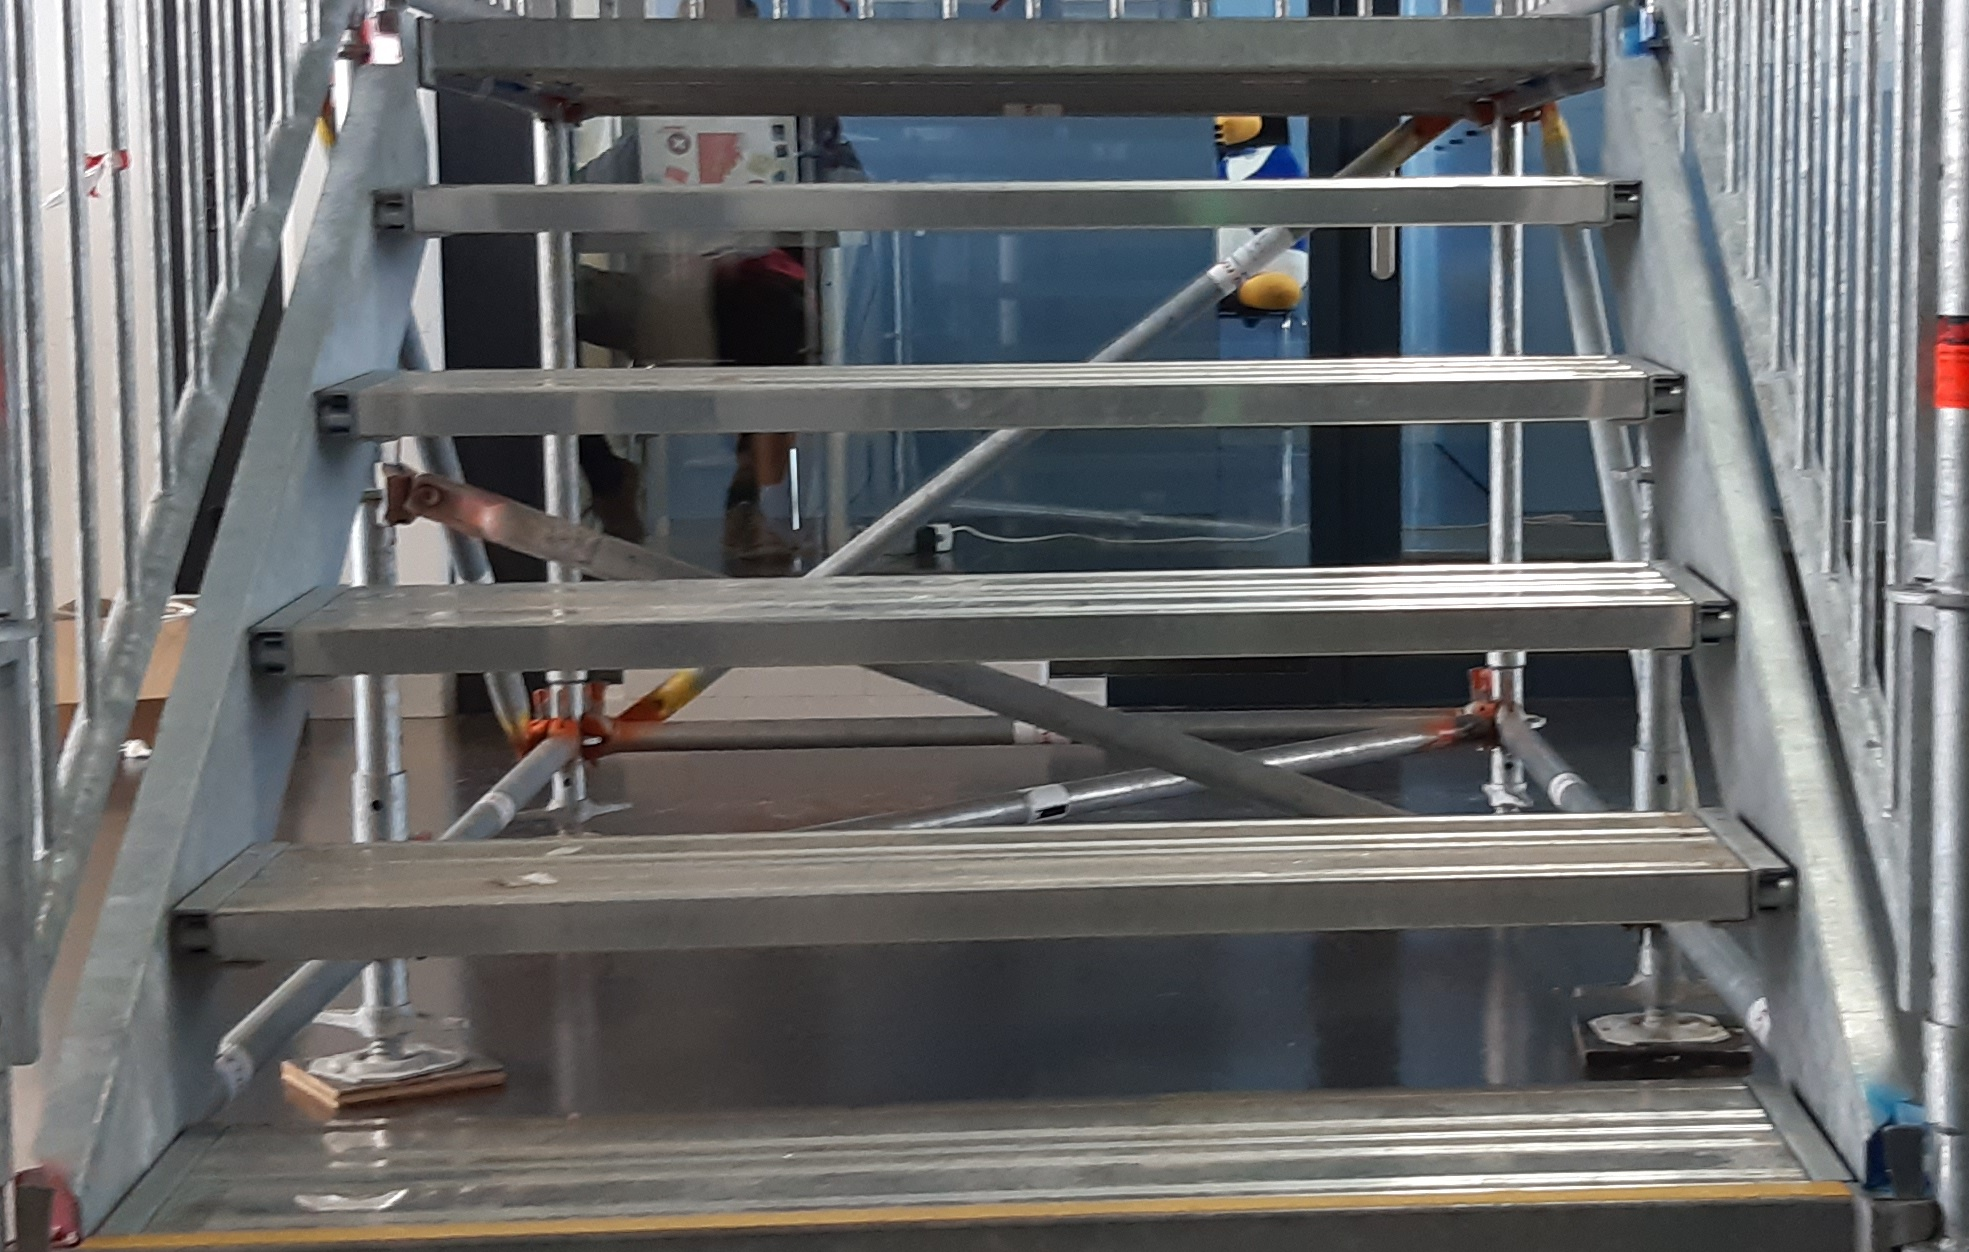edge: (181, 869, 1805, 950), (82, 1193, 1861, 1252), (258, 607, 1739, 672), (309, 373, 1686, 434), (372, 179, 1646, 233), (423, 16, 1599, 66)
